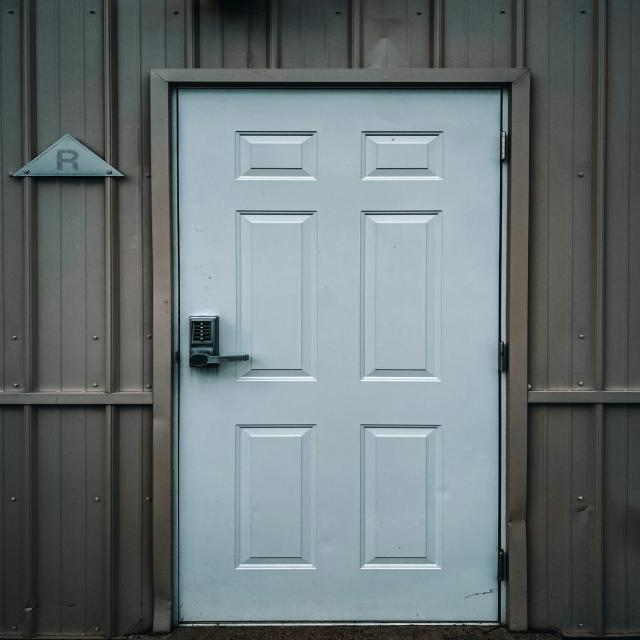door-handle: (190, 352, 250, 366)
